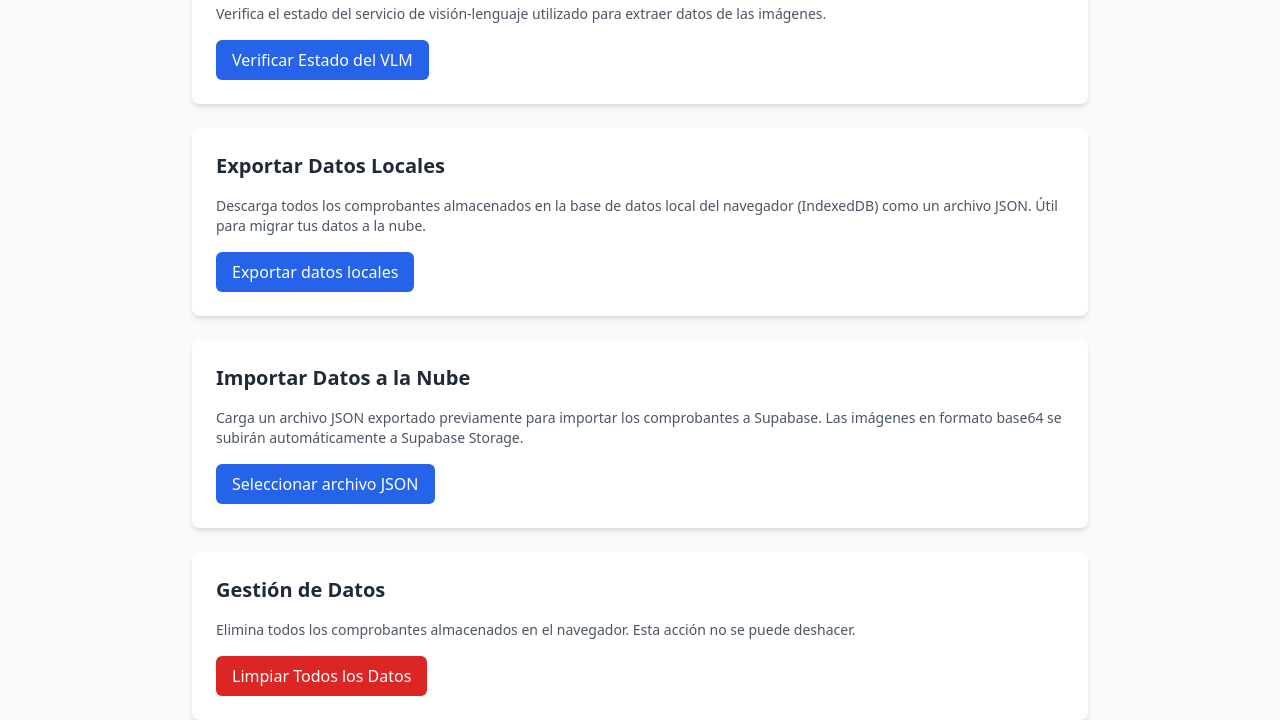
Test: SettingsPage › closes modal when clicking cancel
This screenshot has width=1280, height=720.
(page scrolled)
Open modal
What coordinates should you click on to do the following:
click the button "Limpiar Todos los Datos"
I would click on:
 (322, 676)
Its box is [216, 656, 427, 696].
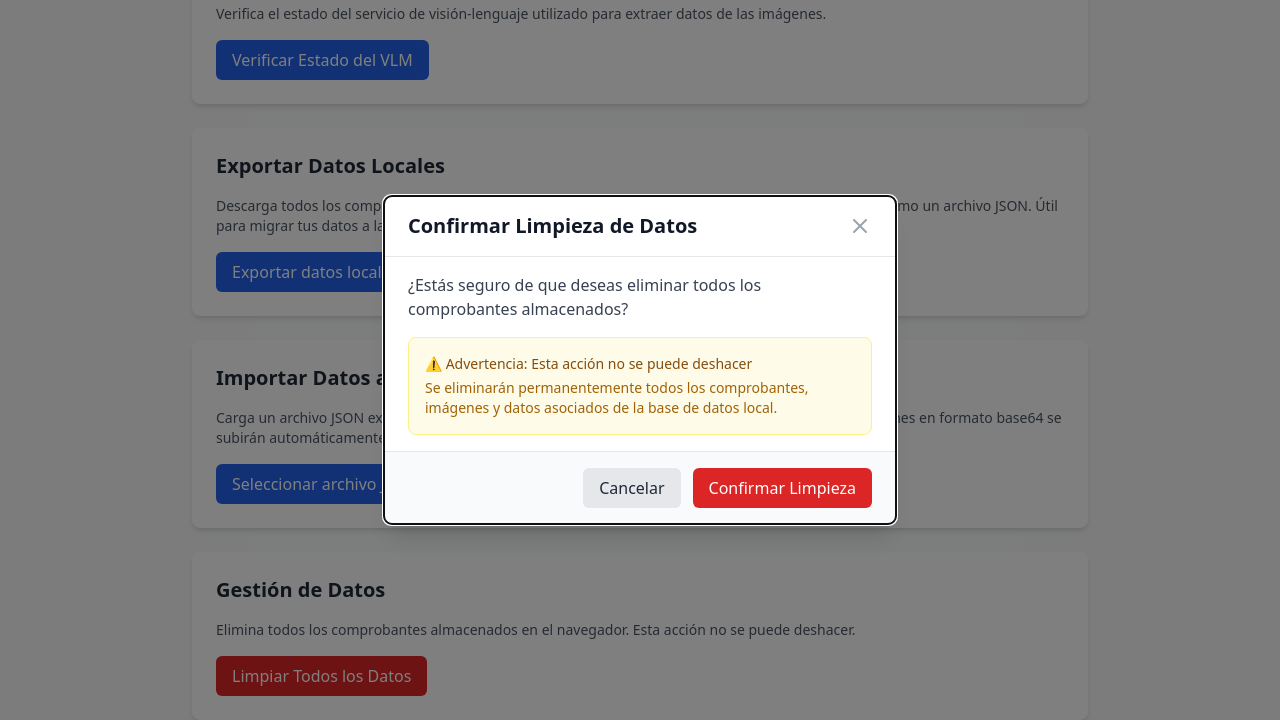
Result: the heading "Confirmar Limpieza de Datos" is shown at [408, 212, 697, 240]
Click cancel
What coordinates should you click on to do the following:
click the button "Cancelar"
I would click on:
 (632, 488)
Its box is [583, 468, 681, 508].
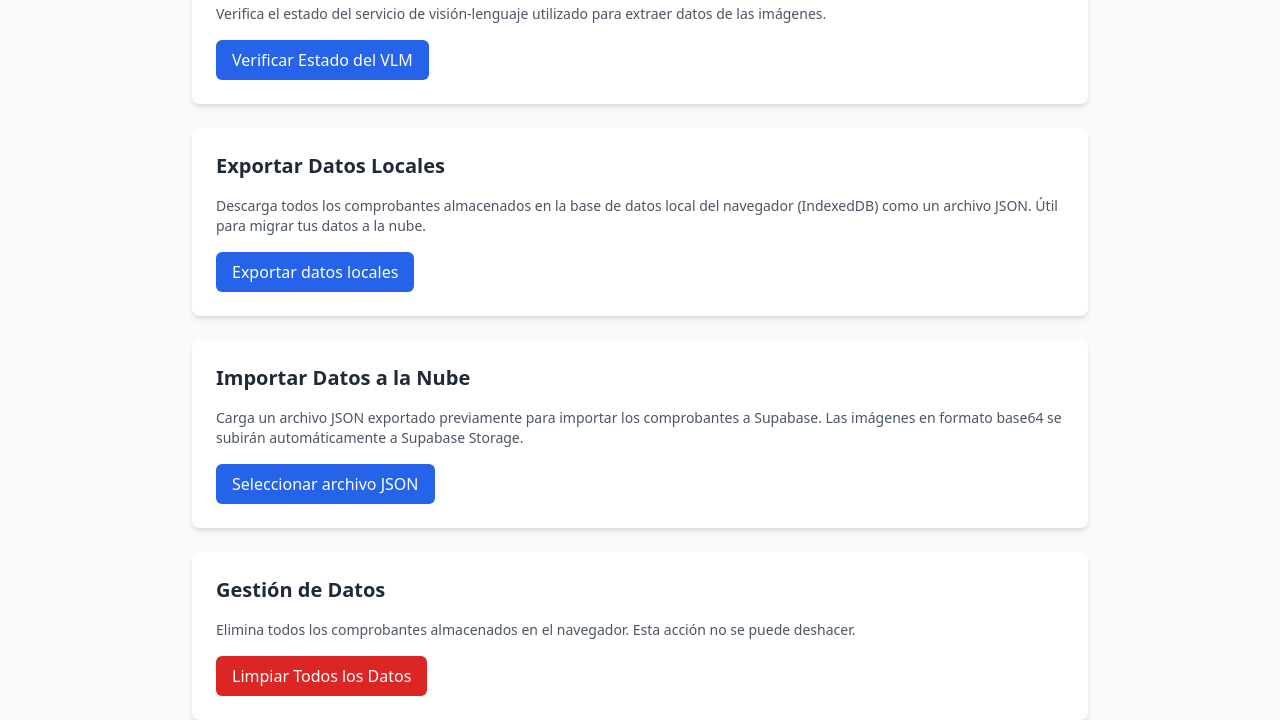
Result: the heading "Confirmar Limpieza de Datos" is gone
